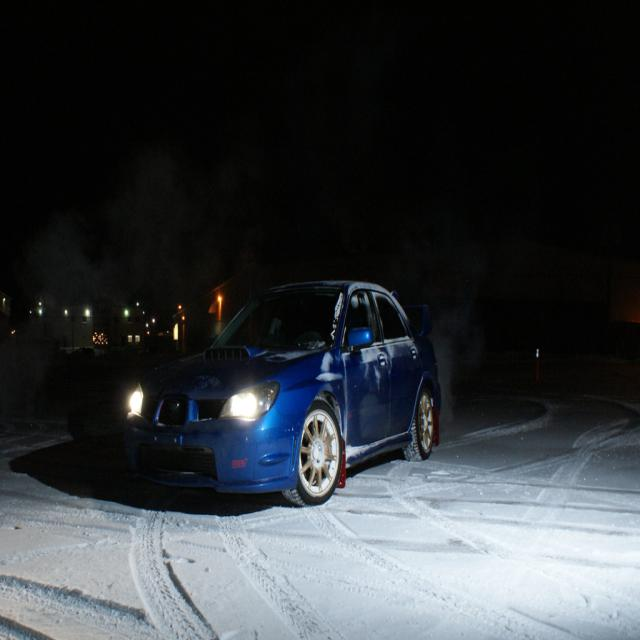car: (111, 275, 431, 508)
